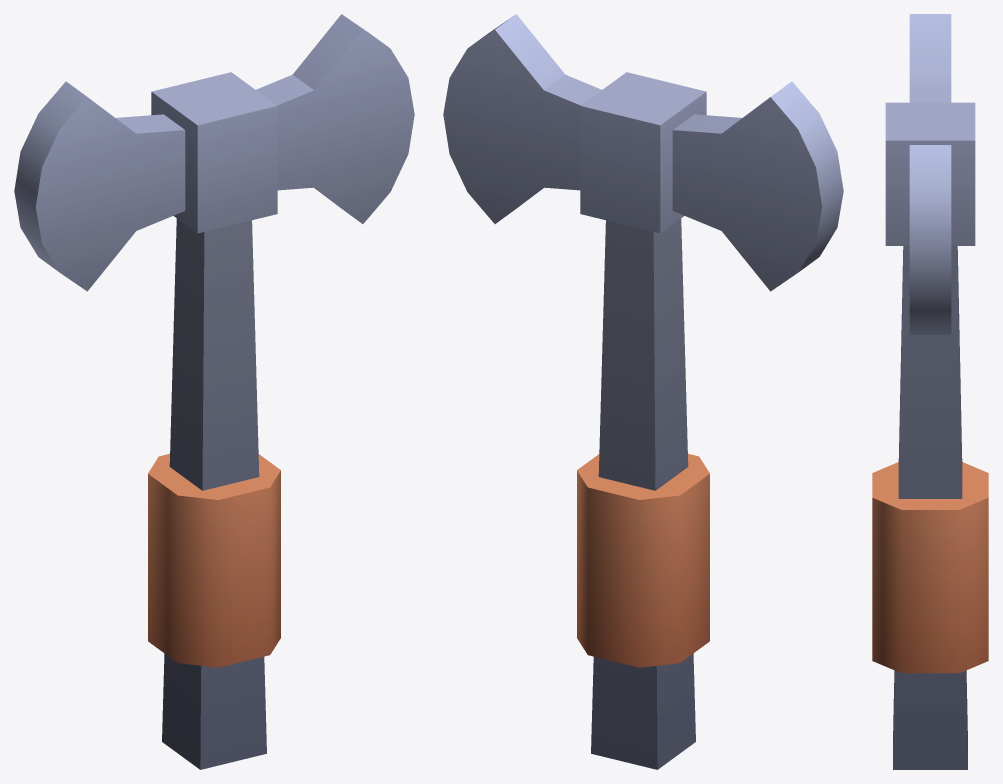
The model's file is kenney-survival-tool-axe-upgraded.glb.
The picture shows the model from 3 angles, left to right: view 1: azimuth 30°, elevation 25°; view 2: azimuth 150°, elevation 25°; view 3: azimuth 270°, elevation 25°; orthographic projection. The views are drawn at different scales.
Visible parts, largest first — view 1: tool-axe-upgraded; view 2: tool-axe-upgraded; view 3: tool-axe-upgraded.
Boxes of the visible parts, bbox=[...] form: tool-axe-upgraded: bbox=[14, 14, 414, 769]; tool-axe-upgraded: bbox=[443, 14, 843, 769]; tool-axe-upgraded: bbox=[872, 14, 988, 769].
Bounding box in the file's own units: 0.1466 × 0.256 × 0.04.
Materials: 1 (1 with a texture image).
